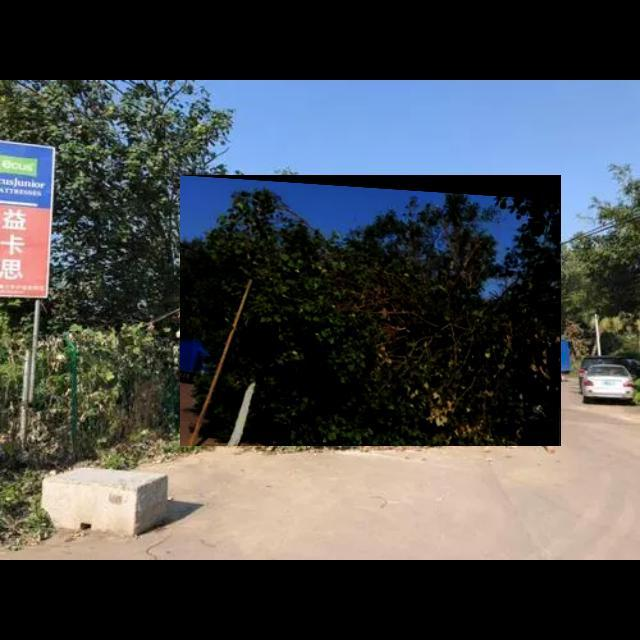fallen_tree: (180, 175, 562, 447)
